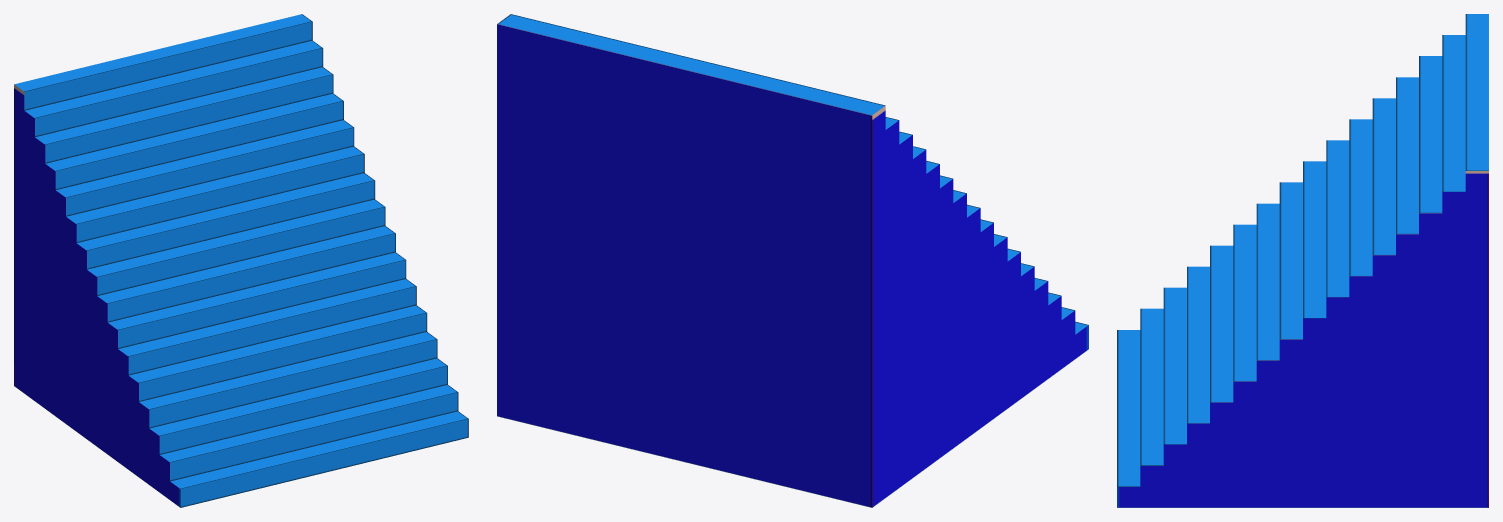
File: MK_Stairs_Trim_D_Wall_E.fbx
3 views of the same model, side by side, from view 1: azimuth 30°, elevation 25°; view 2: azimuth 150°, elevation 25°; view 3: azimuth 270°, elevation 25° (orthographic). The views are drawn at different scales.
Visible parts, largest first — view 1: Stairs_Trim_D_Wall_E; view 2: Stairs_Trim_D_Wall_E; view 3: Stairs_Trim_D_Wall_E.
Part boxes in pixels (left/top/right/bottom): Stairs_Trim_D_Wall_E: left=14, top=14, right=468, bottom=507; Stairs_Trim_D_Wall_E: left=497, top=14, right=1088, bottom=507; Stairs_Trim_D_Wall_E: left=1117, top=14, right=1488, bottom=507.
Size of the model in its own units: 180 by 180 by 180.
Materials: 1 (1 with a texture image).
